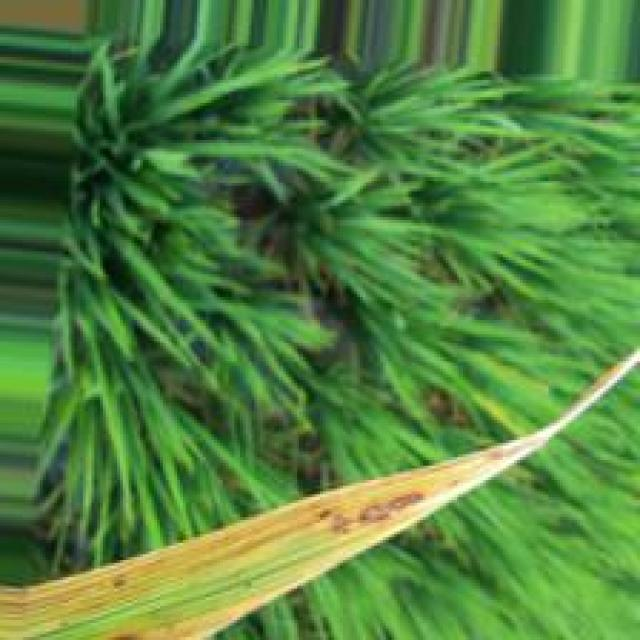Bacterial_Leaf_Blight: (0, 438, 537, 640)
